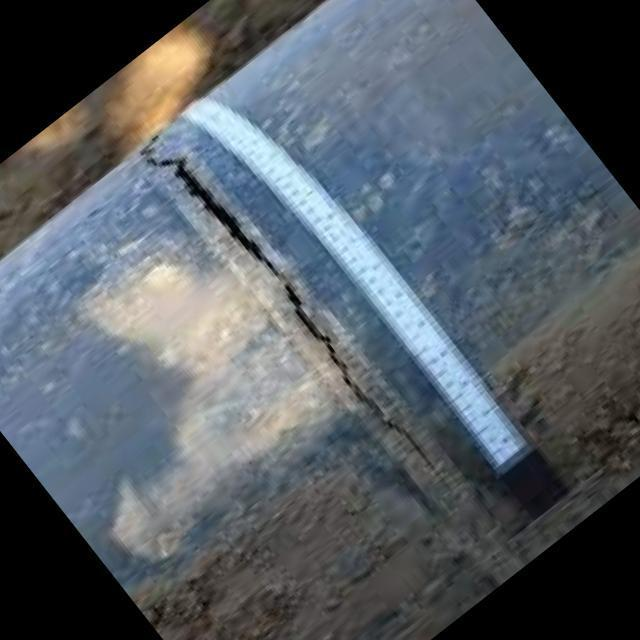defect: (133, 124, 460, 502)
